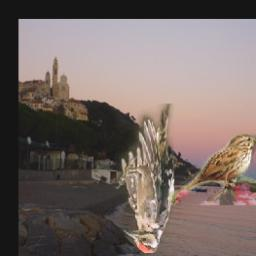Sparrow: (166, 131, 256, 205)
Woodpecker: (116, 104, 175, 253)
